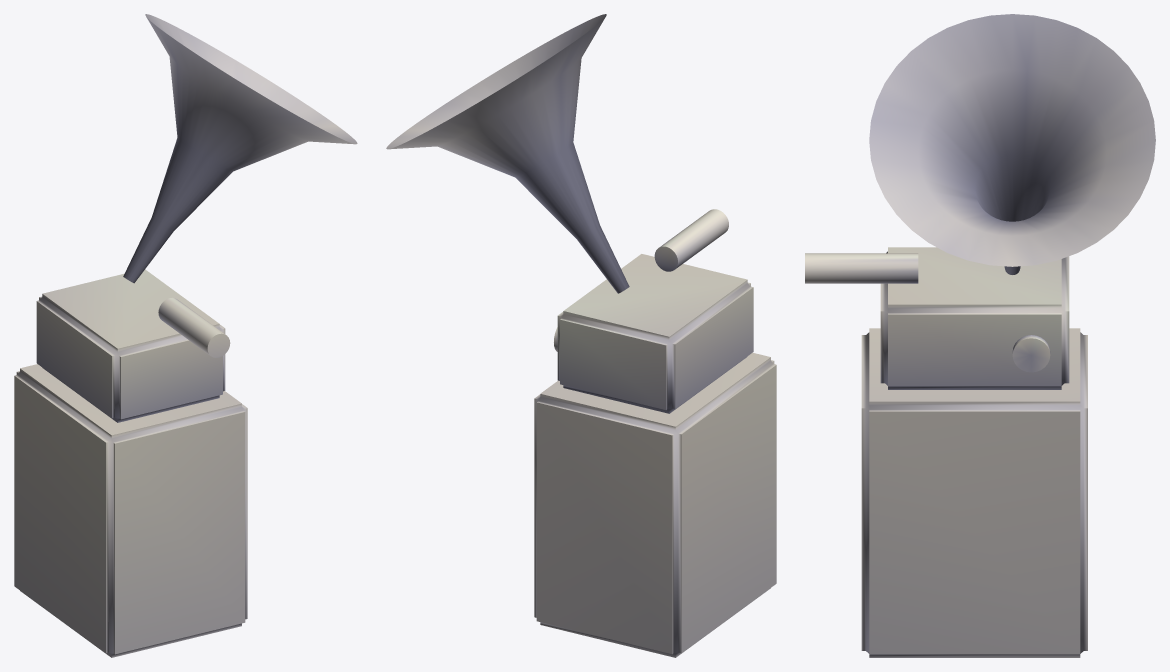
Rendered from phonograph.glb.
3 views of the same model, side by side, from view 1: azimuth 30°, elevation 25°; view 2: azimuth 150°, elevation 25°; view 3: azimuth 270°, elevation 25° (orthographic). The views are drawn at different scales.
Visible parts, largest first — view 1: body; view 2: body; view 3: body.
Part boxes in pixels (bbox=[...]): body: bbox=[14, 14, 357, 657]; body: bbox=[386, 14, 776, 657]; body: bbox=[805, 14, 1155, 657].
Bounding box in the file's own units: 1.04 × 1.86 × 0.93.
